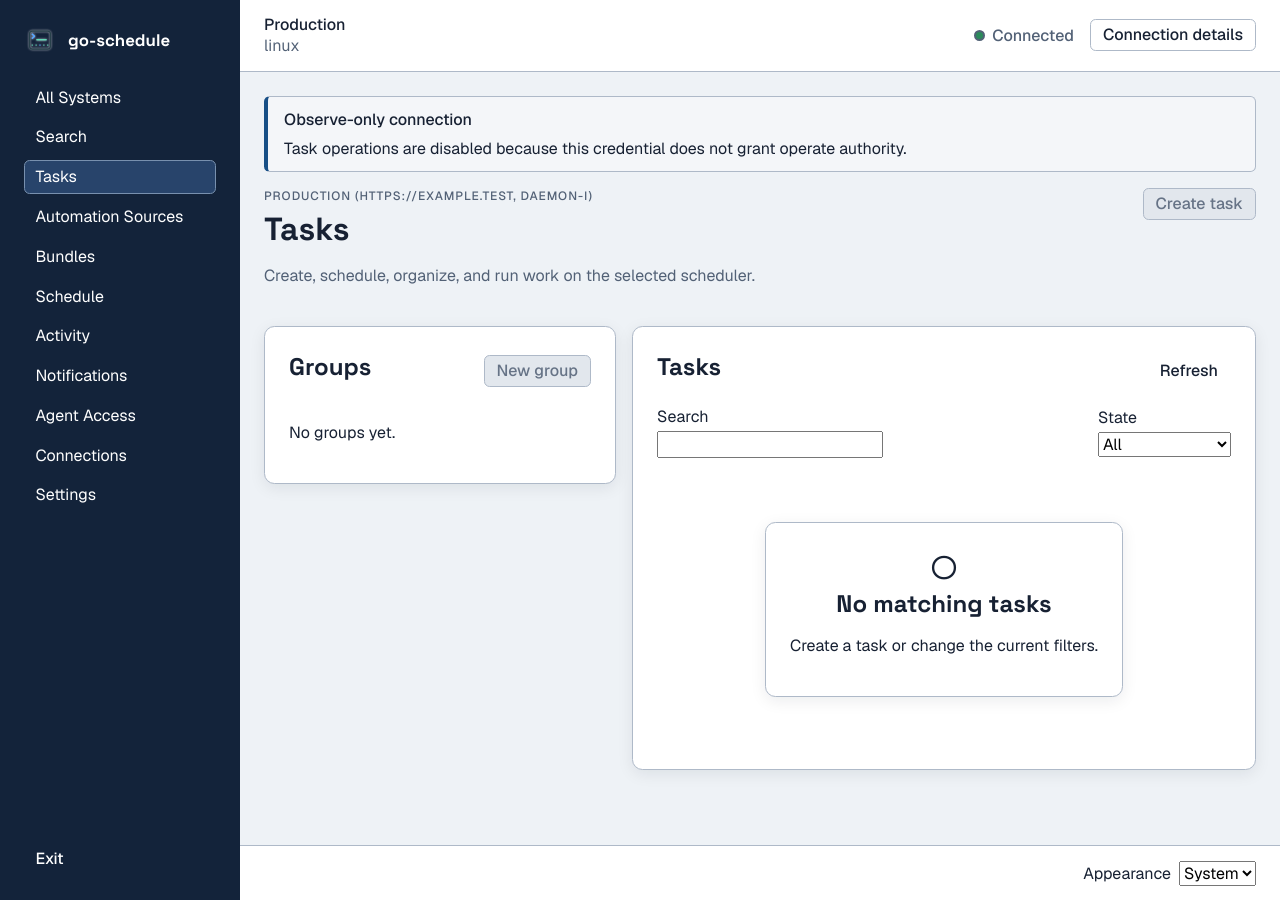
it: production shell › keeps remote identity visible and fails closed for unsupported or observe-only actions
Check: the text "Observe-only connection" is shown, box [284, 109, 472, 130]
Check: the button "Create task" is disabled, box [1143, 188, 1256, 220]
Click the button "Automation Sources".
click(120, 216)  # box [24, 199, 216, 234]
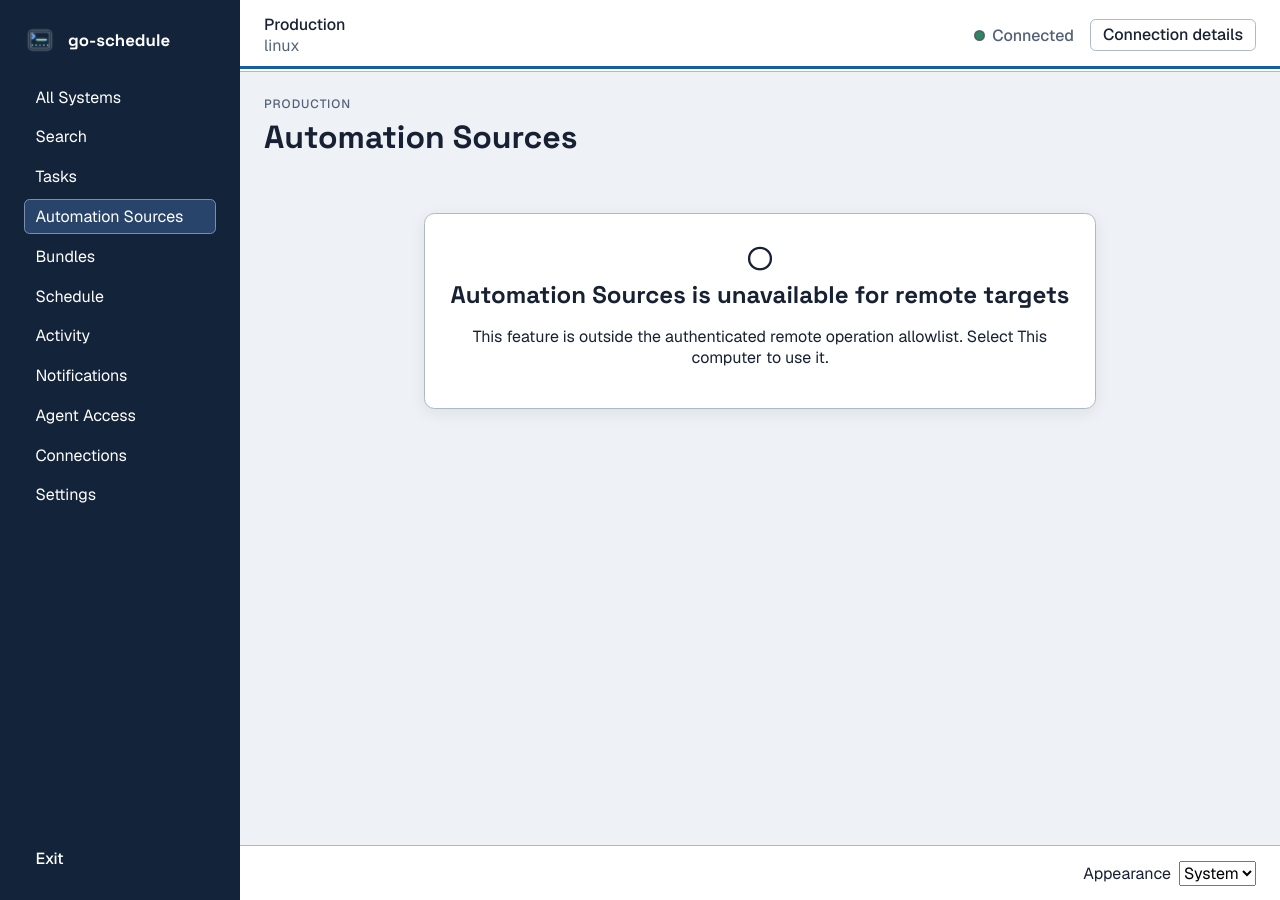
Check: the heading "Automation Sources is unavailable for remote targets" is shown, box [449, 279, 1071, 310]
Click the button "Connection details".
click(1173, 35)  # box [1090, 19, 1256, 51]
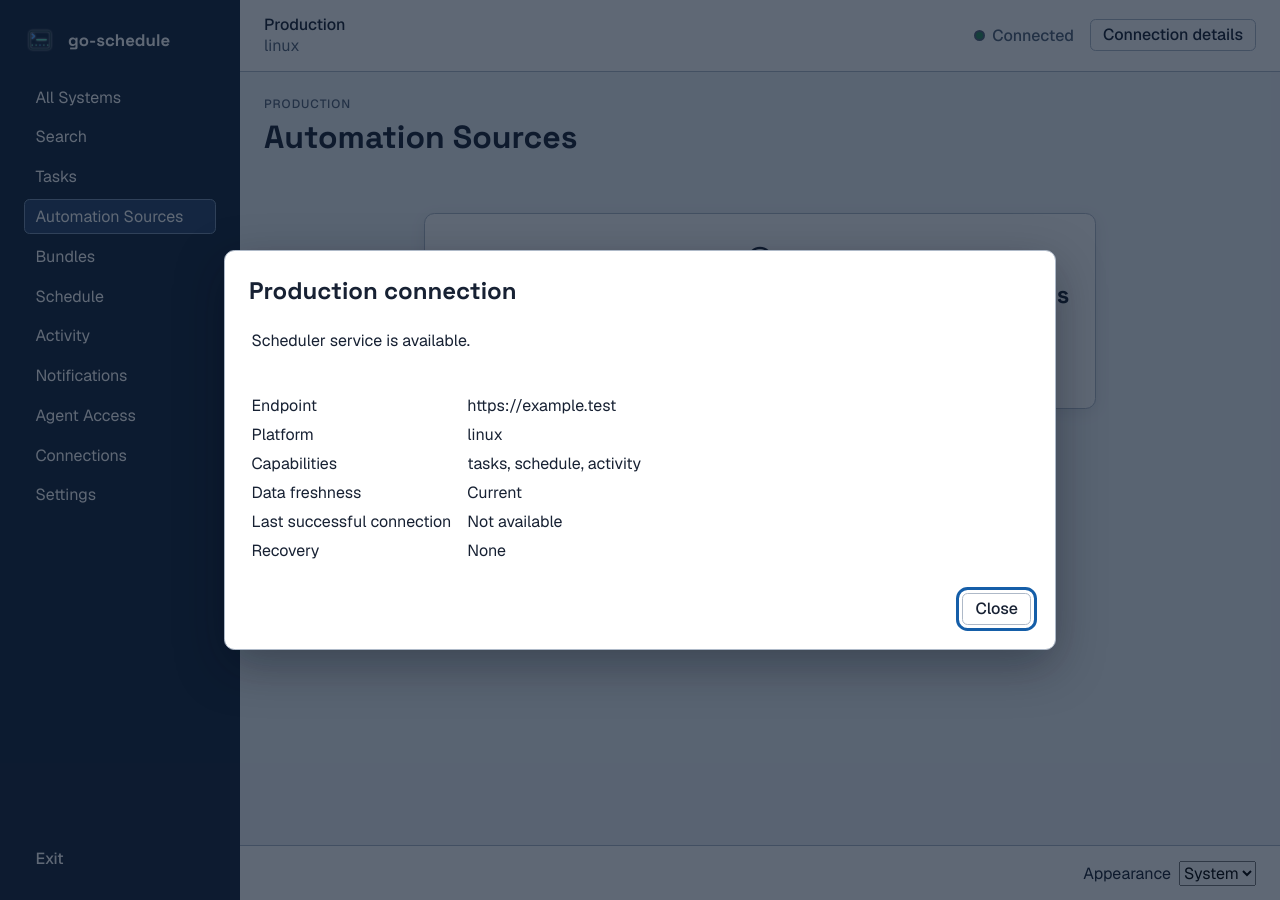
Check: the dialog "Production connection" shows "https://example.test", box [467, 395, 616, 416]
